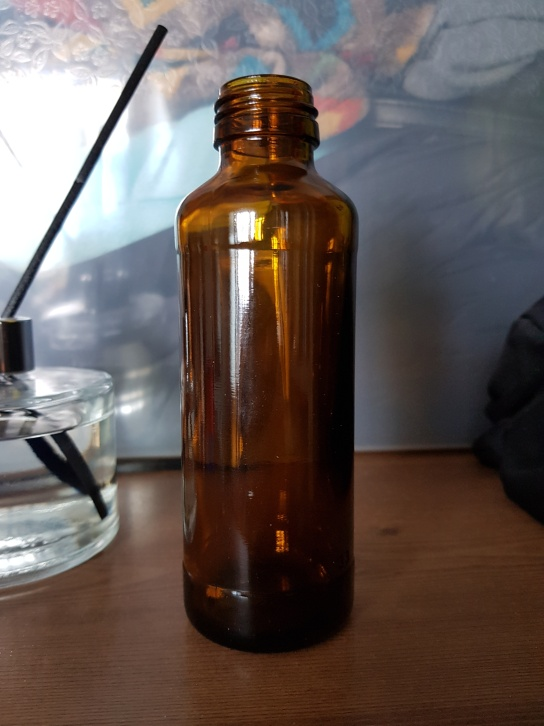Glass: (177, 71, 355, 652)
